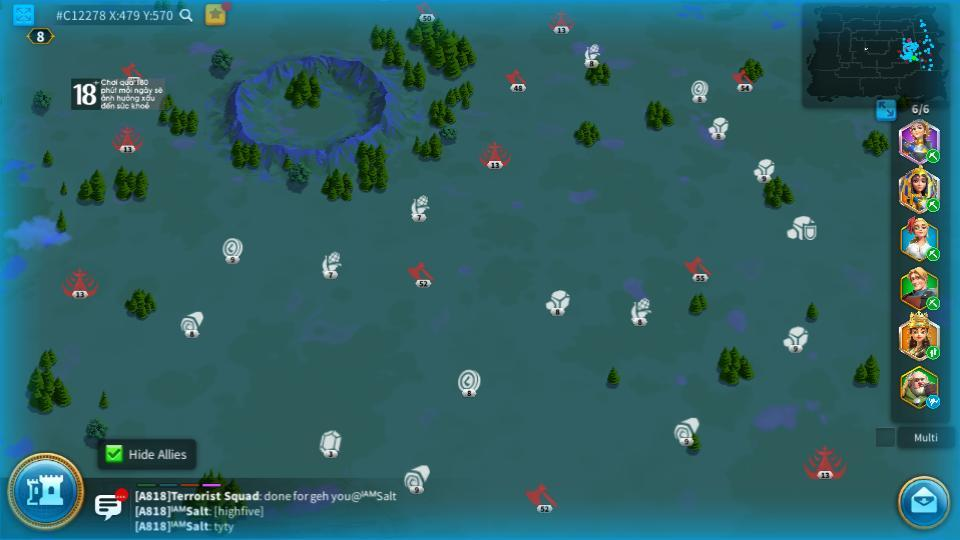gem-z-out: (318, 430, 342, 457)
march_farming: (924, 197, 939, 212), (925, 297, 941, 308), (924, 250, 939, 261)
march_idle: (925, 396, 942, 408)
march_marching: (925, 345, 941, 359), (925, 150, 941, 162)
